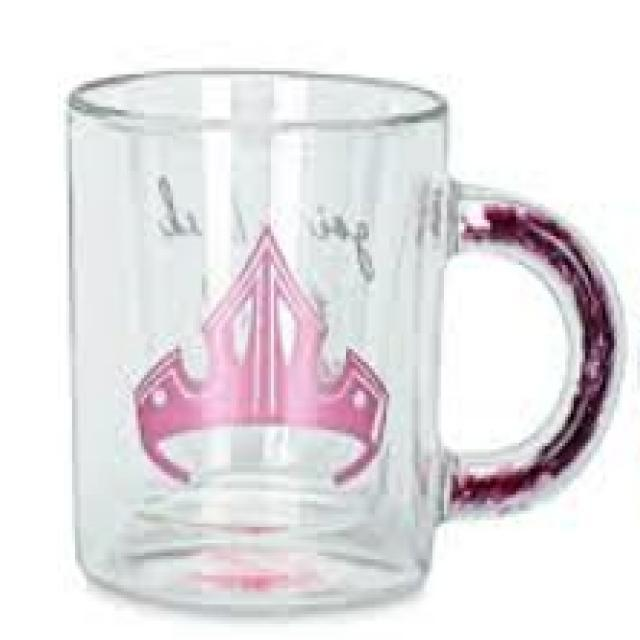taza: (61, 67, 626, 617)
